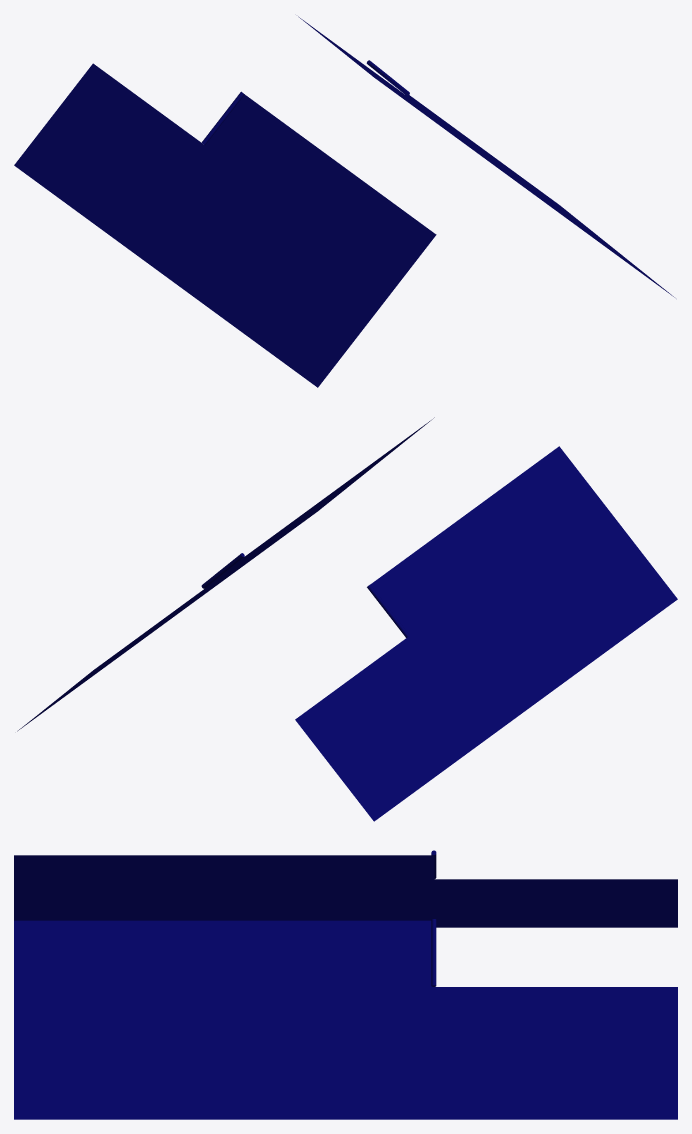
Rendered from Finishes Roof.dae.
The picture shows the model from 3 angles, top to bottom: view 1: azimuth 30°, elevation 25°; view 2: azimuth 150°, elevation 25°; view 3: azimuth 270°, elevation 25°; orthographic projection. The views are drawn at different scales.
Visible parts, largest first — view 1: group_1, group_2, group_3, group_7, group_6, group_8; view 2: group_1, group_2, group_3, group_6, group_7, group_8; view 3: group_6, group_7, group_8, group_2, group_1, group_3.
Boxes of the visible parts, bbox=[...] form: group_1: bbox=[14, 114, 356, 387]; group_2: bbox=[53, 63, 396, 336]; group_3: bbox=[205, 94, 436, 285]; group_7: bbox=[338, 48, 674, 297]; group_6: bbox=[298, 16, 636, 266]; group_8: bbox=[370, 66, 597, 235]; group_1: bbox=[335, 548, 677, 821]; group_2: bbox=[295, 497, 637, 770]; group_3: bbox=[370, 446, 598, 635]; group_6: bbox=[57, 450, 393, 699]; group_7: bbox=[17, 481, 355, 731]; group_8: bbox=[207, 417, 434, 586]; group_6: bbox=[14, 987, 677, 1053]; group_7: bbox=[14, 1053, 677, 1119]; group_8: bbox=[14, 920, 432, 986]; group_2: bbox=[14, 879, 677, 903]; group_1: bbox=[14, 903, 677, 927]; group_3: bbox=[14, 855, 433, 879].
Size of the model in its own units: 355 by 519 by 120.
